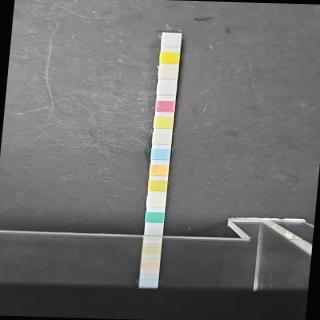mark: (145, 212, 164, 224), (154, 117, 173, 129), (149, 180, 167, 192), (158, 84, 176, 96), (156, 101, 175, 112), (151, 164, 168, 176), (153, 148, 170, 160), (148, 197, 166, 208), (153, 133, 171, 144), (162, 52, 178, 64), (163, 36, 179, 48), (160, 70, 176, 80)
